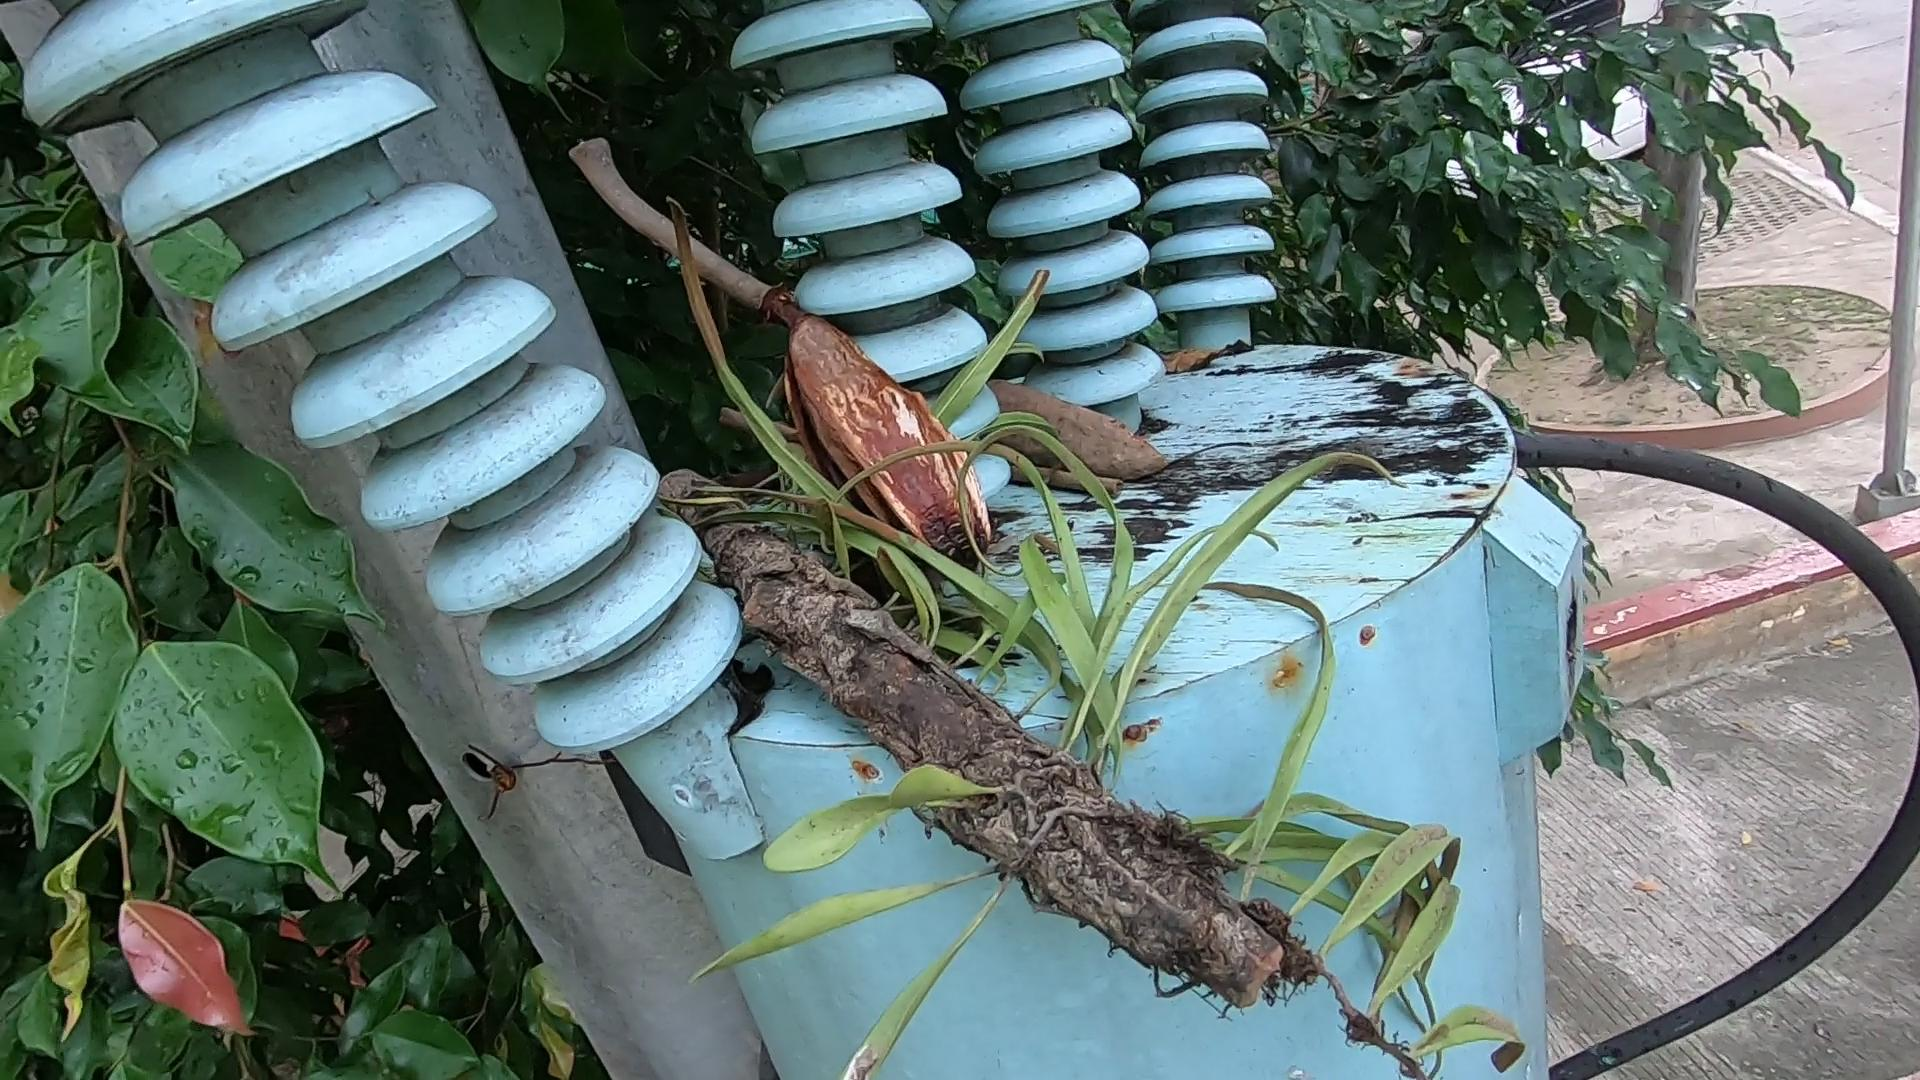branch with leaves: (653, 451, 1331, 1025)
leaf: (1160, 338, 1255, 365)
mahogany fruit: (754, 294, 1033, 542), (993, 369, 1179, 488)
tree branch: (579, 107, 766, 332), (1010, 451, 1137, 526)
